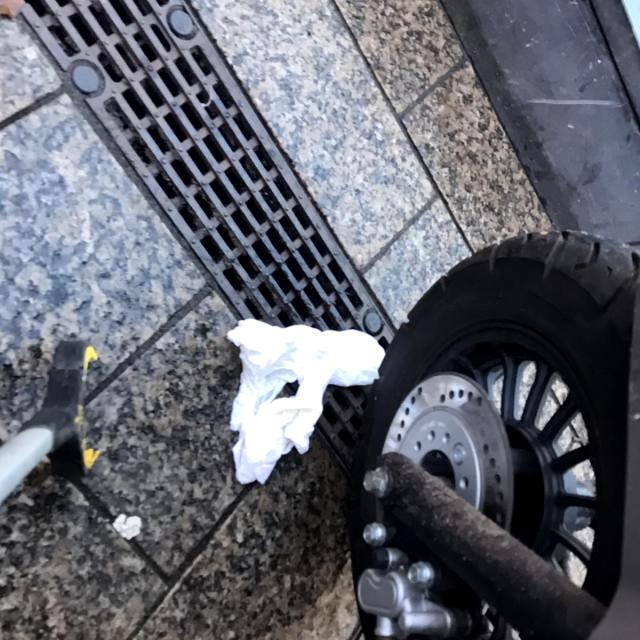Paper: (225, 317, 387, 487)
